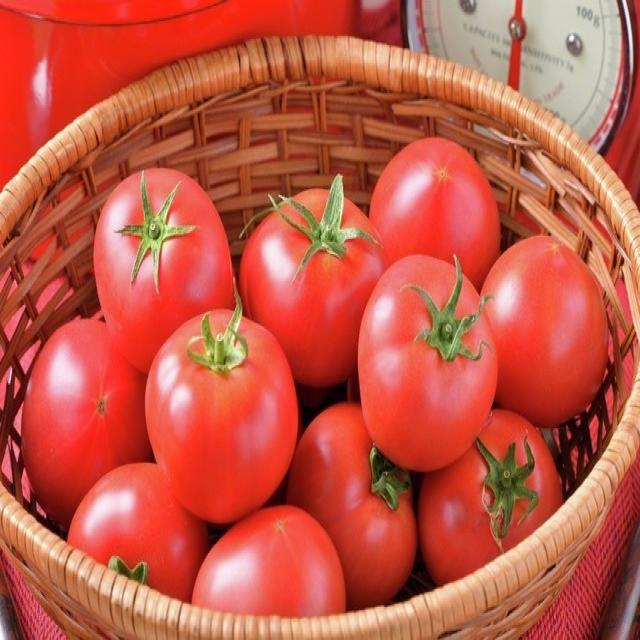Tomato: (141, 308, 307, 526), (352, 243, 502, 482), (232, 182, 389, 392), (18, 310, 165, 526), (88, 166, 235, 359), (416, 406, 565, 593), (480, 232, 610, 431), (292, 399, 416, 606), (364, 132, 505, 297), (63, 459, 212, 612), (187, 501, 350, 616)
